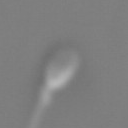abnormal: (20, 85, 54, 128)
